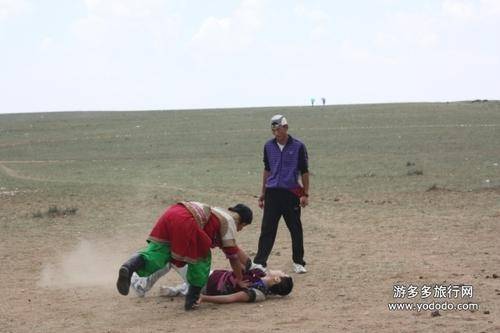falling: (162, 259, 300, 308)
